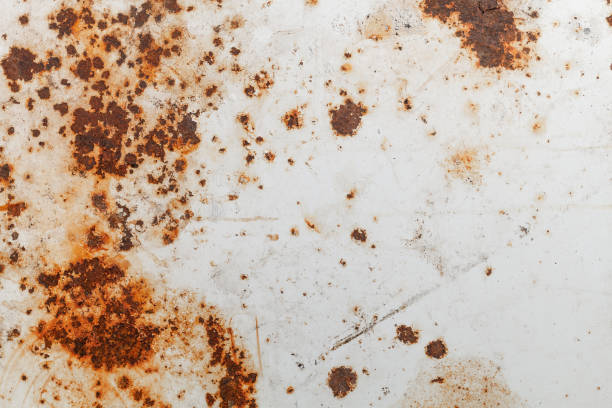rust: (4, 4, 268, 402), (326, 3, 549, 139), (316, 320, 457, 404)
